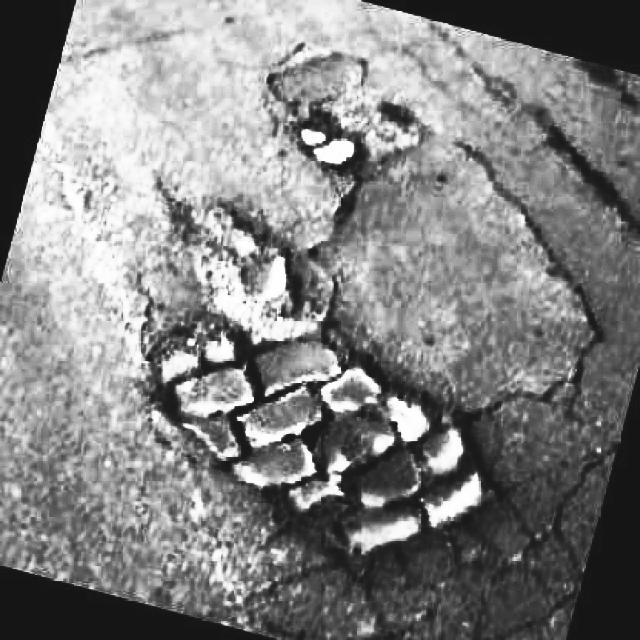pothole: (122, 203, 500, 568), (262, 48, 386, 178)
